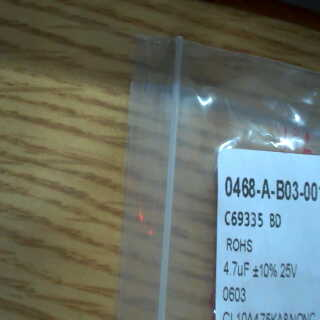4.7uF: (220, 259, 250, 280)
